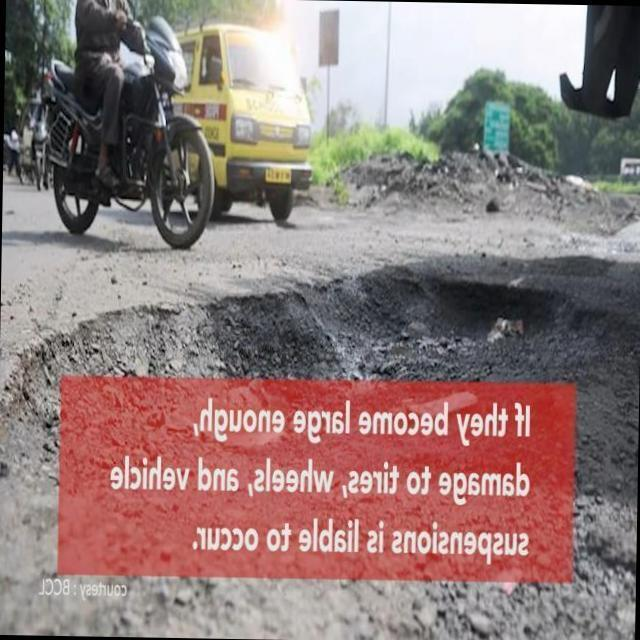Pothole: (8, 276, 627, 506)
